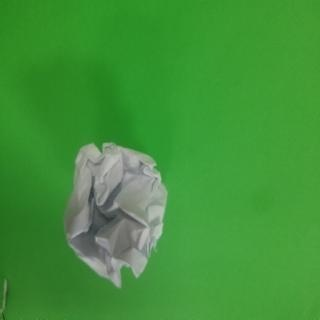8/可回收垃圾/纸: (62, 142, 168, 288)
